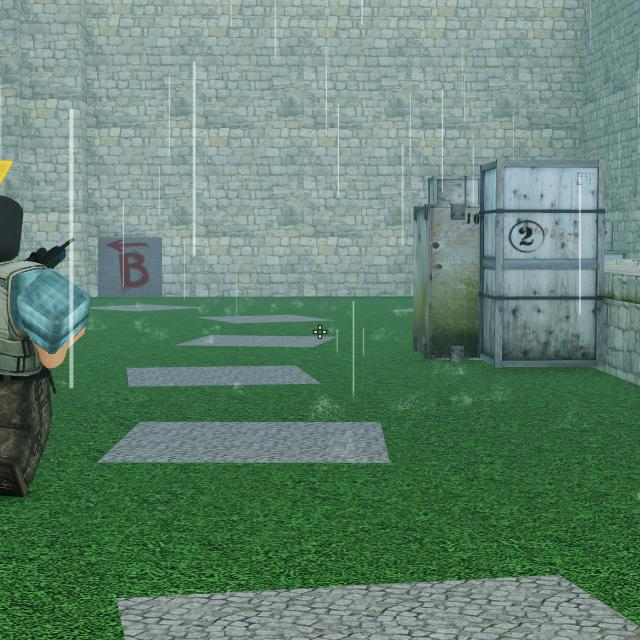Head: (0, 195, 22, 259)
Player: (0, 195, 89, 495)
